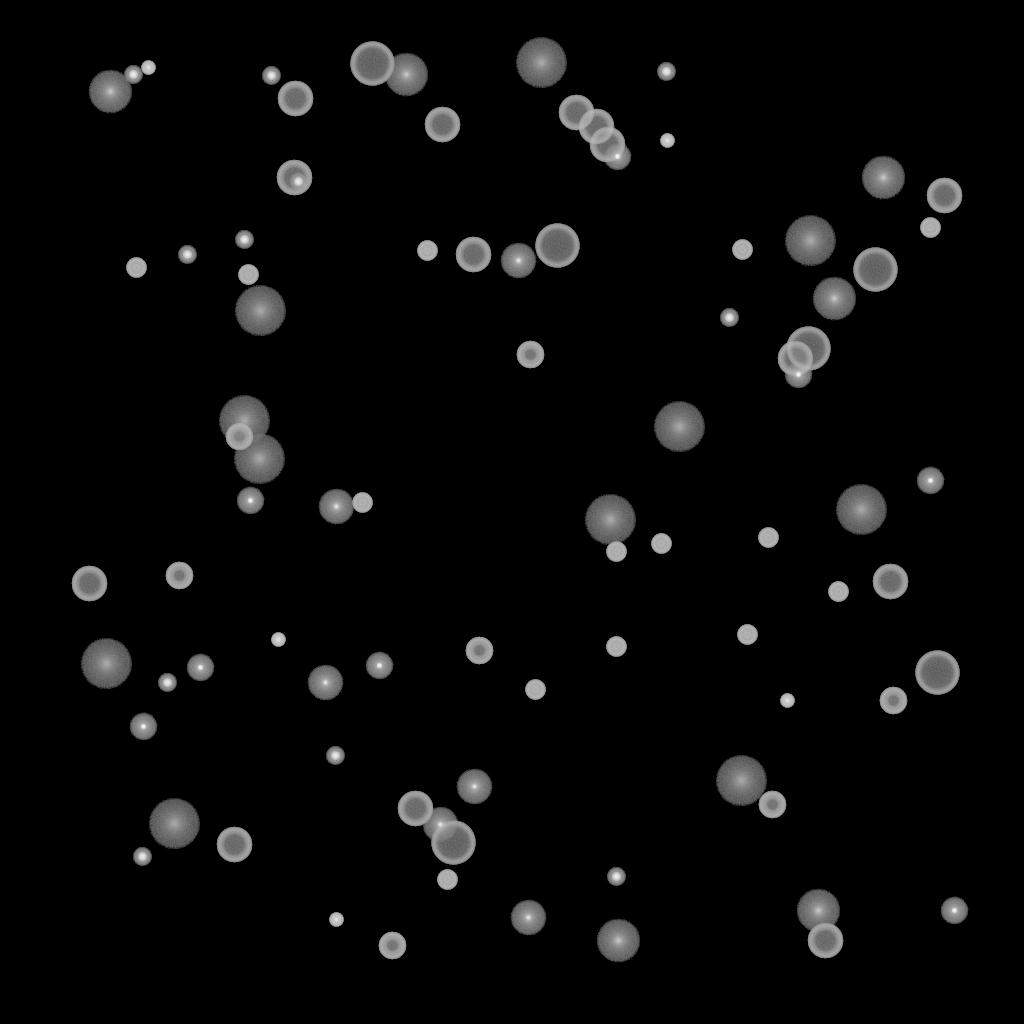depth:-10: (365, 652, 393, 680), (916, 467, 944, 495), (940, 897, 968, 925), (186, 654, 214, 682), (784, 361, 812, 389), (236, 487, 264, 515), (129, 713, 157, 741), (603, 143, 631, 171)
depth:-20: (289, 173, 307, 191), (158, 674, 176, 692), (326, 747, 344, 765), (607, 868, 625, 886), (720, 309, 738, 327), (124, 66, 142, 84), (235, 231, 253, 249), (657, 63, 675, 81), (133, 848, 151, 866), (178, 246, 196, 264), (262, 67, 280, 85)
depth:-30: (141, 61, 155, 75), (271, 633, 285, 647), (329, 913, 343, 927), (660, 134, 674, 148), (780, 694, 794, 708)
depth:-40: (417, 241, 437, 261), (651, 534, 671, 554), (828, 582, 848, 602), (352, 493, 372, 513), (525, 680, 545, 700), (732, 240, 752, 260), (737, 625, 757, 645), (238, 265, 258, 285), (437, 870, 457, 890), (606, 637, 626, 657), (126, 258, 146, 278), (758, 528, 778, 548), (606, 542, 626, 562), (920, 218, 940, 238)
depth:-50: (758, 791, 786, 819), (225, 423, 253, 451), (165, 562, 193, 590), (378, 932, 406, 960), (465, 637, 493, 665), (516, 341, 544, 369), (879, 687, 907, 715)
depth:-60: (277, 81, 313, 117), (578, 109, 614, 145), (216, 827, 252, 863), (777, 341, 813, 377), (276, 160, 312, 196), (807, 923, 843, 959), (926, 178, 962, 214), (397, 791, 433, 827), (589, 127, 625, 163), (71, 566, 107, 602), (558, 95, 594, 131), (872, 564, 908, 600), (424, 107, 460, 143), (455, 237, 491, 273)
depth:-70: (915, 651, 959, 695), (431, 821, 475, 865), (786, 327, 830, 371), (535, 224, 579, 268), (350, 42, 394, 86), (853, 248, 897, 292)
depth:0: (307, 665, 343, 701), (510, 900, 546, 936), (422, 807, 458, 843), (500, 243, 536, 279), (456, 769, 492, 805), (318, 489, 354, 525)
depth:10: (596, 919, 640, 963), (861, 156, 905, 200), (796, 889, 840, 933), (88, 70, 132, 114), (384, 53, 428, 97), (812, 277, 856, 321)
depth:20: (515, 38, 567, 88), (218, 396, 270, 446), (80, 639, 132, 689), (715, 756, 767, 806), (584, 495, 636, 545), (835, 485, 887, 535), (148, 799, 200, 849), (784, 216, 836, 266), (653, 402, 705, 452), (233, 434, 285, 484), (234, 286, 286, 336)
